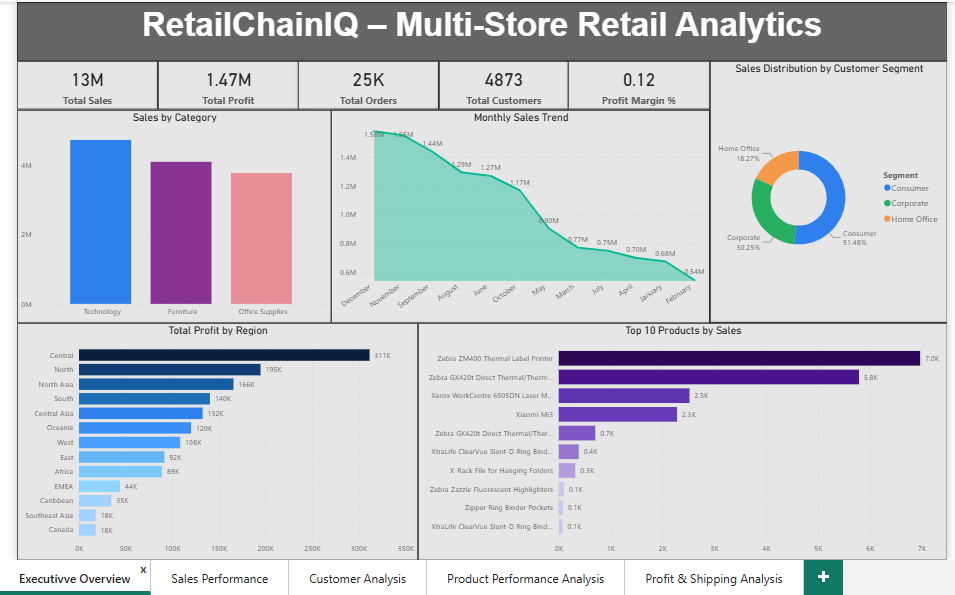

The page's visual inventory and layout, read from the dashboard file:
{"tool":"powerbi","page":{"name":"Executivve Overview","canvas":[1500,900],"ordinal":0},"visuals":[{"type":"textbox","box":[0,0,1500.6,95.7],"z":0},{"type":"card","fields":{"Values":["retail_sales.DAX Total Sales"]},"box":[0,95.7,226.8,78],"z":1000},{"type":"card","fields":{"Values":["retail_sales.Total Profit"]},"box":[226.8,95.7,226.8,78],"z":2000},{"type":"card","fields":{"Values":["retail_sales.Total Orders"]},"box":[453.5,95.7,226.8,78],"z":3000},{"type":"card","fields":{"Values":["retail_sales.Total Customers"]},"box":[680.3,95.7,209.1,78],"z":4000},{"type":"card","fields":{"Values":["retail_sales.Profit Margin %"]},"box":[889.4,95.7,228.5,78],"z":5000},{"type":"lineChart","title":"Monthly Sales Trend","fields":{"Category":["retail_sales.Month_Name"],"Y":["retail_sales.DAX Total Sales"]},"box":[506.7,173.6,611.2,343.7],"z":6000},{"type":"clusteredColumnChart","title":"Sales by Category","fields":{"Category":["retail_sales.Category"],"Y":["retail_sales.DAX Total Sales"]},"box":[0,173.6,506.7,343.7],"z":7000},{"type":"clusteredBarChart","fields":{"Y":["retail_sales.Total Profit"],"Category":["retail_sales.Region"]},"box":[0,517.3,646.7,382.7],"z":8000},{"type":"donutChart","title":"Sales Distribution by Customer Segment","fields":{"Category":["retail_sales.Segment"],"Y":["retail_sales.DAX Total Sales"]},"box":[1117.9,95.7,382.7,421.7],"z":9000},{"type":"clusteredBarChart","title":"Top 10 Products by Sales","fields":{"Y":["retail_sales.DAX Total Sales"],"Category":["retail_sales.Product_Name"]},"box":[646.7,517.3,853.9,382.7],"z":10000}]}

Visuals, with their boxes on the page's 1500x900 design canvas (x1, y1, x2, y2). These are canvas units, not pixel positions in the 955x595 screenshot, which may show the page scaled, cropped or inside an application window:
textbox: left=0, top=0, right=1501, bottom=96
card - retail_sales.DAX Total Sales: left=0, top=96, right=227, bottom=174
card - retail_sales.Total Profit: left=227, top=96, right=454, bottom=174
card - retail_sales.Total Orders: left=454, top=96, right=680, bottom=174
card - retail_sales.Total Customers: left=680, top=96, right=889, bottom=174
card - retail_sales.Profit Margin %: left=889, top=96, right=1118, bottom=174
"Monthly Sales Trend" lineChart: left=507, top=174, right=1118, bottom=517
"Sales by Category" clusteredColumnChart: left=0, top=174, right=507, bottom=517
clusteredBarChart - retail_sales.Total Profit x retail_sales.Region: left=0, top=517, right=647, bottom=900
"Sales Distribution by Customer Segment" donutChart: left=1118, top=96, right=1501, bottom=517
"Top 10 Products by Sales" clusteredBarChart: left=647, top=517, right=1501, bottom=900
